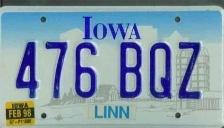4: (13, 39, 42, 100)
6: (73, 40, 99, 100)
7: (44, 40, 71, 102)
B: (117, 40, 144, 100)
Q: (148, 41, 172, 101)
Z: (176, 40, 204, 101)
